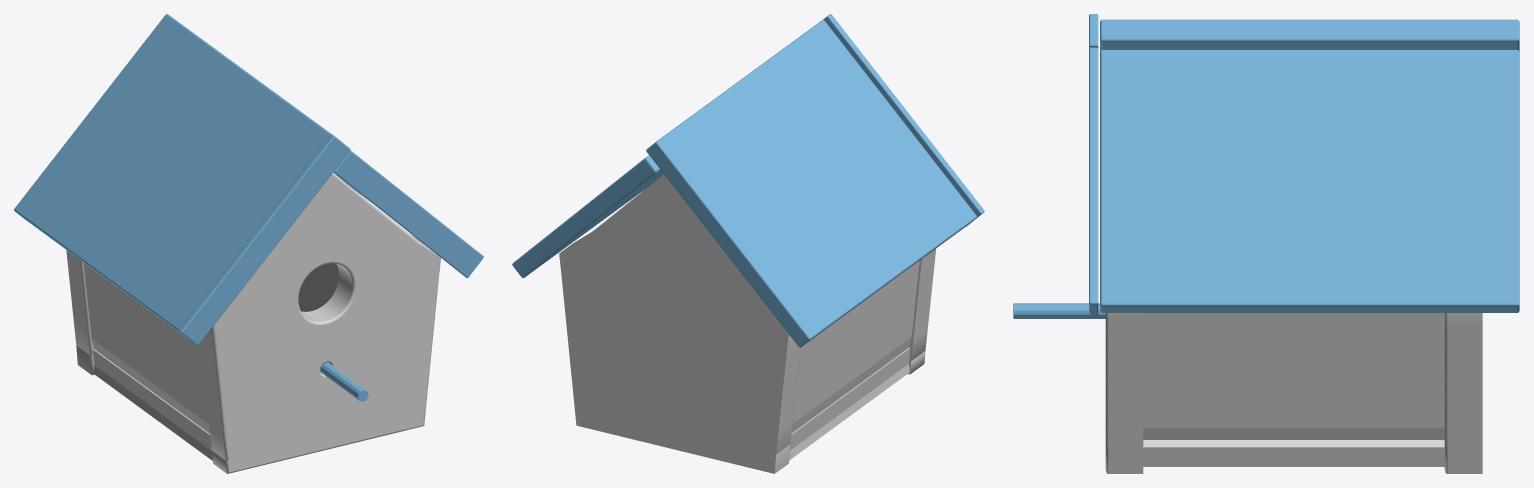
Rendered from Rumah_Burung.fbx.
The picture shows the model from 3 angles, left to right: view 1: azimuth 30°, elevation 25°; view 2: azimuth 150°, elevation 25°; view 3: azimuth 270°, elevation 25°; orthographic projection. The views are drawn at different scales.
Visible parts, largest first — view 1: node-0; view 2: node-0; view 3: node-0.
Boxes of the visible parts, x1=… form: node-0: x1=14, y1=14, x2=483, y2=473; node-0: x1=512, y1=14, x2=984, y2=473; node-0: x1=1013, y1=14, x2=1519, y2=473.
Size of the model in its own units: 22038 by 22168 by 25388.
